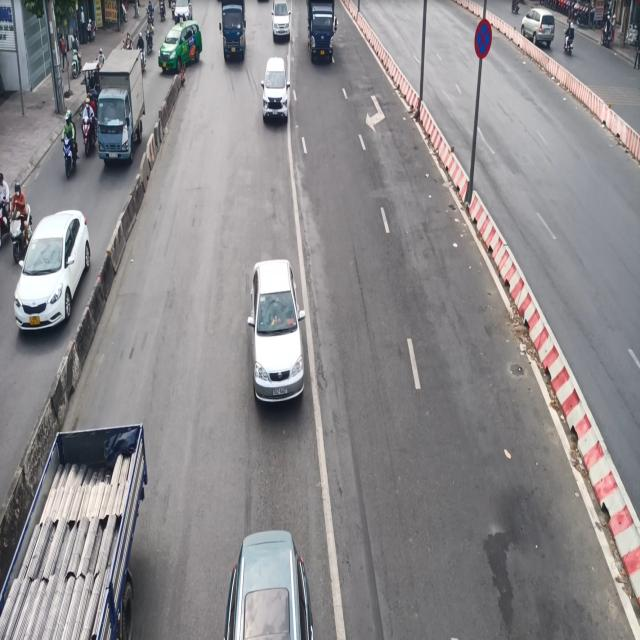car: (16, 196, 89, 344), (245, 255, 312, 406), (261, 51, 288, 131), (270, 0, 293, 46)
motor: (8, 180, 32, 272), (60, 107, 79, 180), (80, 95, 96, 157)
truck: (96, 45, 144, 165)
